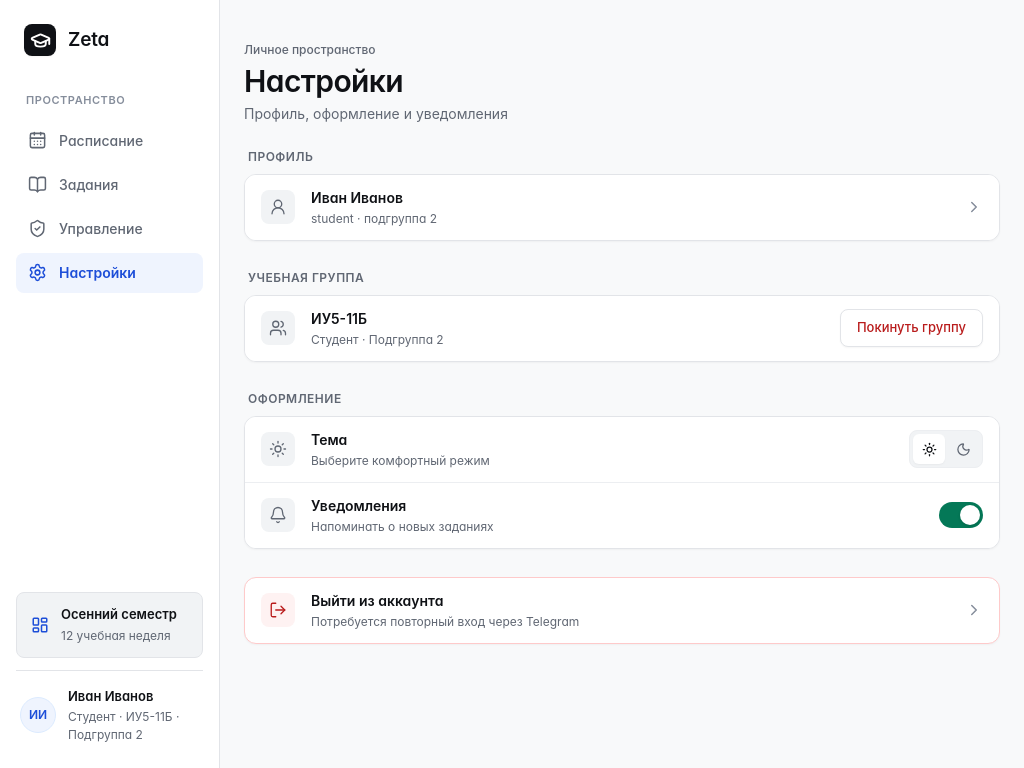
SettingsPage - Group Settings › leaves group on confirmation, shows toast feedback and updates card to empty state
This screenshot has width=1024, height=768.
Click the button "Покинуть группу": (911, 328) [840,309,983,347]
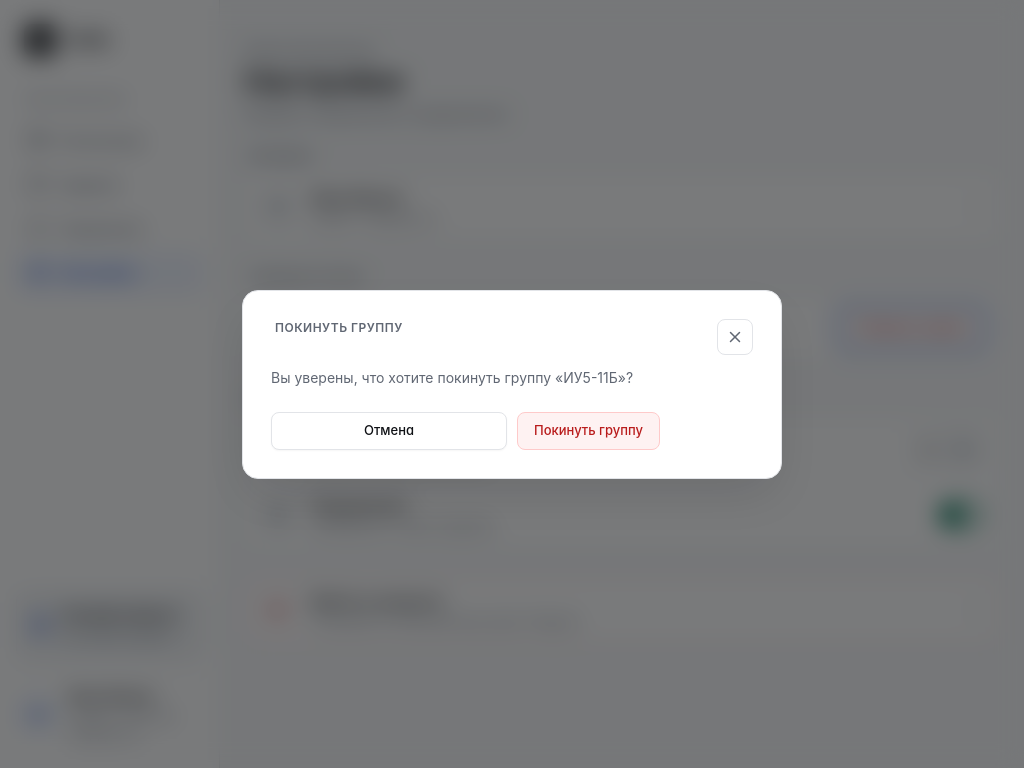
The button inside modal
Click the button "Покинуть группу": (589, 430) [517,412,660,450]
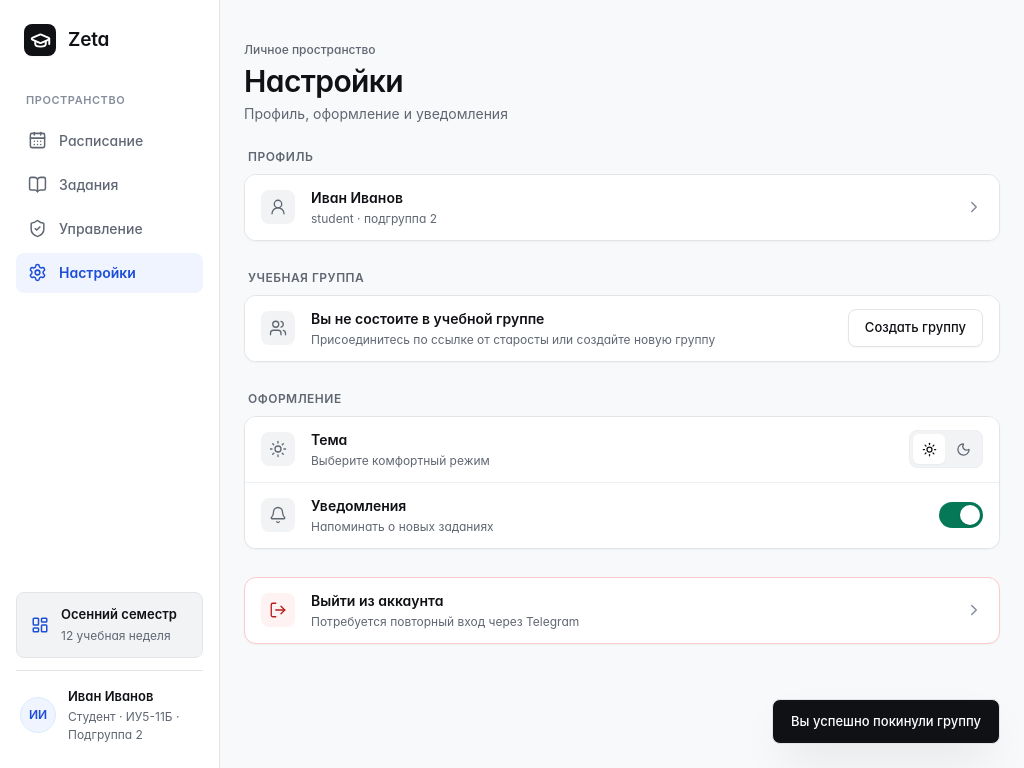
Result: the message reads "Вы успешно покинули группу" at [791,712,981,728]
Result: the text "Вы не состоите в учебной группе" is shown at [311,310,544,326]
